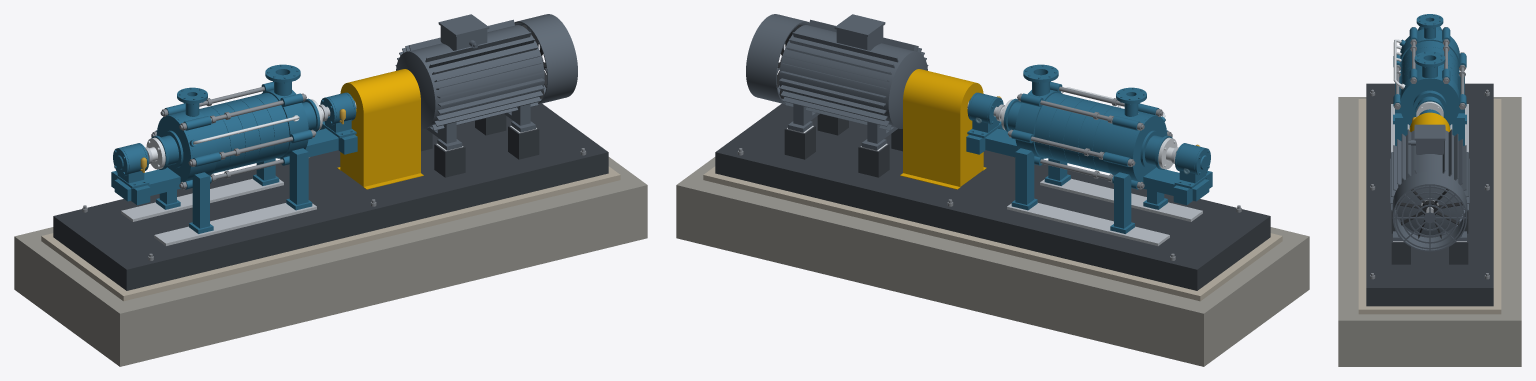
The picture shows the model from 3 angles, left to right: view 1: azimuth 30°, elevation 25°; view 2: azimuth 150°, elevation 25°; view 3: azimuth 270°, elevation 25°; orthographic projection. The views are drawn at different scales.
Parts seen in each view (by area): view 1: foundation, baseplate, motor-frame, coupling-guard, grout, discharge-casing, suction-casing, pump-mounting-rails, motor-fan-cover, motor-mounting-pads, motor-terminal-box, tie-bolts-5 (+13 smaller); view 2: foundation, baseplate, motor-frame, coupling-guard, grout, discharge-casing, suction-casing, pump-mounting-rails, motor-fan-cover, motor-mounting-pads, motor-terminal-box, tie-bolts-5 (+13 smaller); view 3: foundation, baseplate, grout, motor-frame, motor-fan-cover, suction-casing, discharge-casing, motor-mounting-pads, motor-terminal-box, suction-nozzle, motor-fan, discharge-nozzle (+12 smaller).
Part boxes in pixels (x1,y1,x2,y2): foundation: (14, 157, 647, 366); baseplate: (53, 103, 608, 290); motor-frame: (395, 19, 544, 130); coupling-guard: (337, 69, 423, 189); grout: (41, 166, 620, 301); discharge-casing: (111, 103, 220, 233); suction-casing: (253, 82, 357, 210); pump-mounting-rails: (121, 178, 316, 245); motor-fan-cover: (514, 14, 577, 104); motor-mounting-pads: (421, 114, 539, 177); motor-terminal-box: (438, 14, 489, 50); tie-bolts-5: (199, 87, 316, 180); foundation: (676, 157, 1309, 366); baseplate: (715, 103, 1270, 290); motor-frame: (779, 19, 928, 130); coupling-guard: (900, 69, 986, 189); grout: (703, 166, 1282, 301); discharge-casing: (1103, 103, 1212, 233); suction-casing: (966, 82, 1070, 210); pump-mounting-rails: (1007, 178, 1202, 245); motor-fan-cover: (746, 14, 809, 104); motor-mounting-pads: (784, 114, 902, 177); motor-terminal-box: (834, 14, 885, 50); tie-bolts-5: (1007, 87, 1124, 180); foundation: (1338, 97, 1521, 366); baseplate: (1366, 83, 1493, 306); grout: (1358, 99, 1501, 314); motor-frame: (1390, 126, 1469, 235); motor-fan-cover: (1392, 171, 1467, 251); suction-casing: (1393, 68, 1466, 145); discharge-casing: (1393, 27, 1466, 124); motor-mounting-pads: (1391, 210, 1468, 264); motor-terminal-box: (1408, 124, 1445, 154); suction-nozzle: (1414, 51, 1445, 77); motor-fan: (1397, 189, 1462, 238); discharge-nozzle: (1416, 14, 1443, 38).
Bounding box in the file's own units: 4.15 × 1.55 × 1.44.
